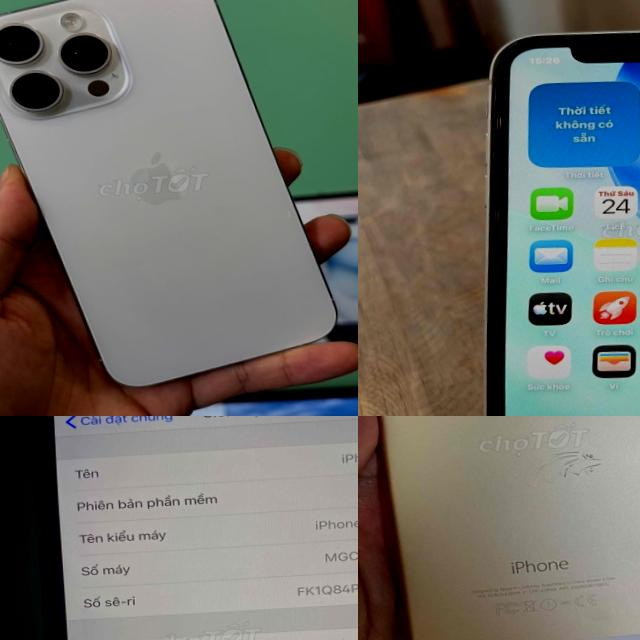gen_11: (468, 11, 640, 416)
gen_15: (0, 0, 358, 388)
gen_6: (18, 416, 358, 640), (358, 416, 640, 640)
scratch: (505, 428, 640, 508)
